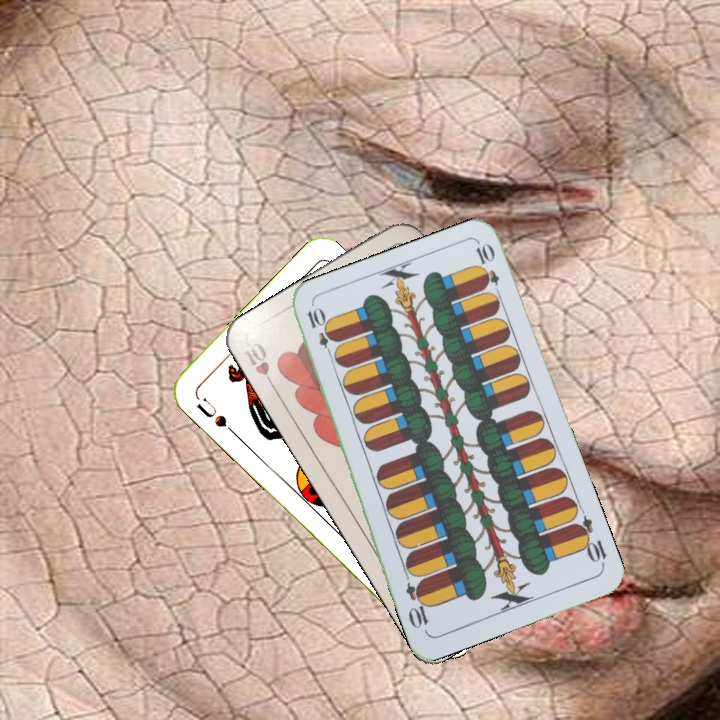E10: (570, 512, 609, 569), (303, 303, 338, 361)
H10: (239, 338, 279, 393)
SU: (192, 392, 239, 438)
